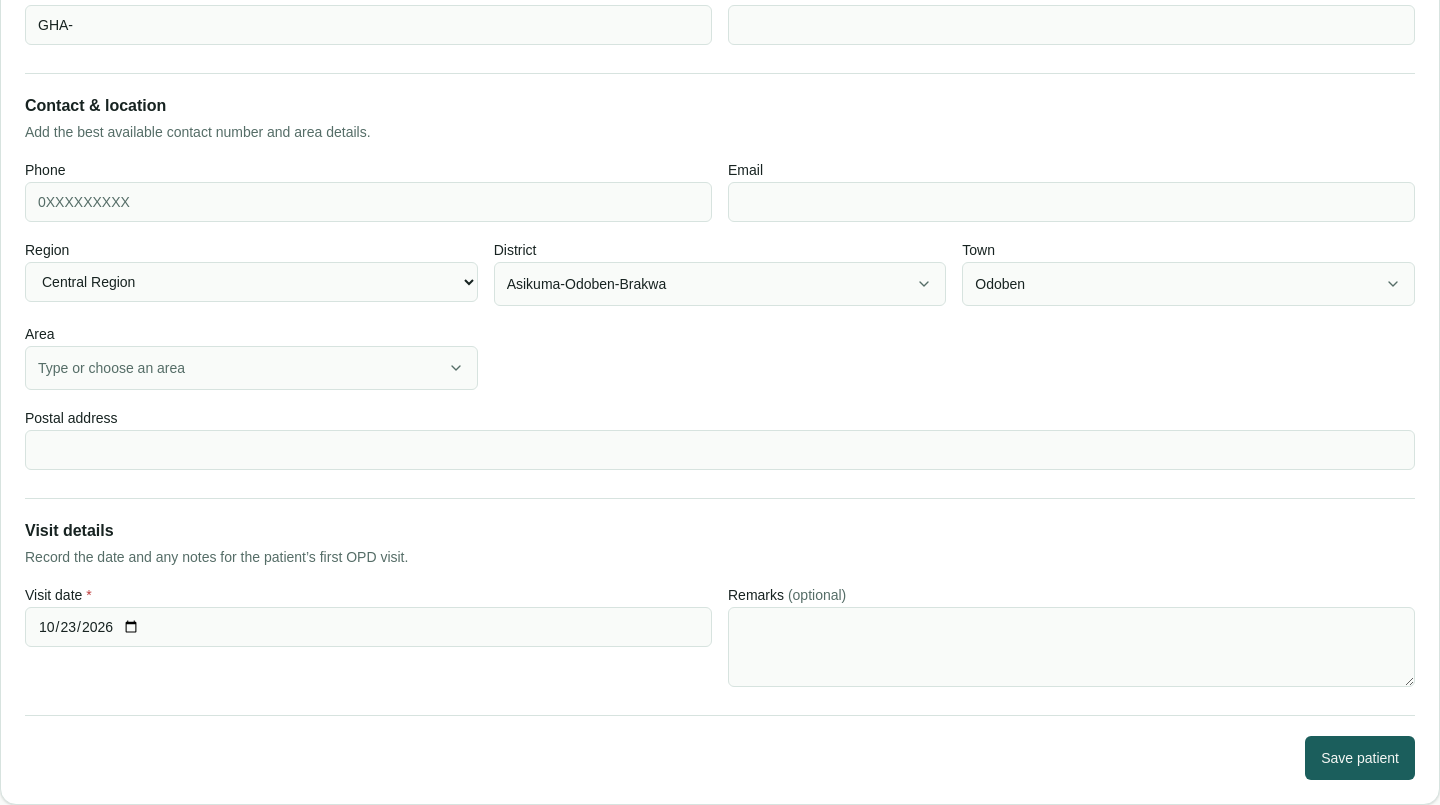
PatientForm defaults and guidance › scrolls to the first invalid field without focusing it
(page scrolled)
Step 1. Click the button "Save patient" → x=1360, y=758, box [1305,736,1415,780]
(page scrolled)
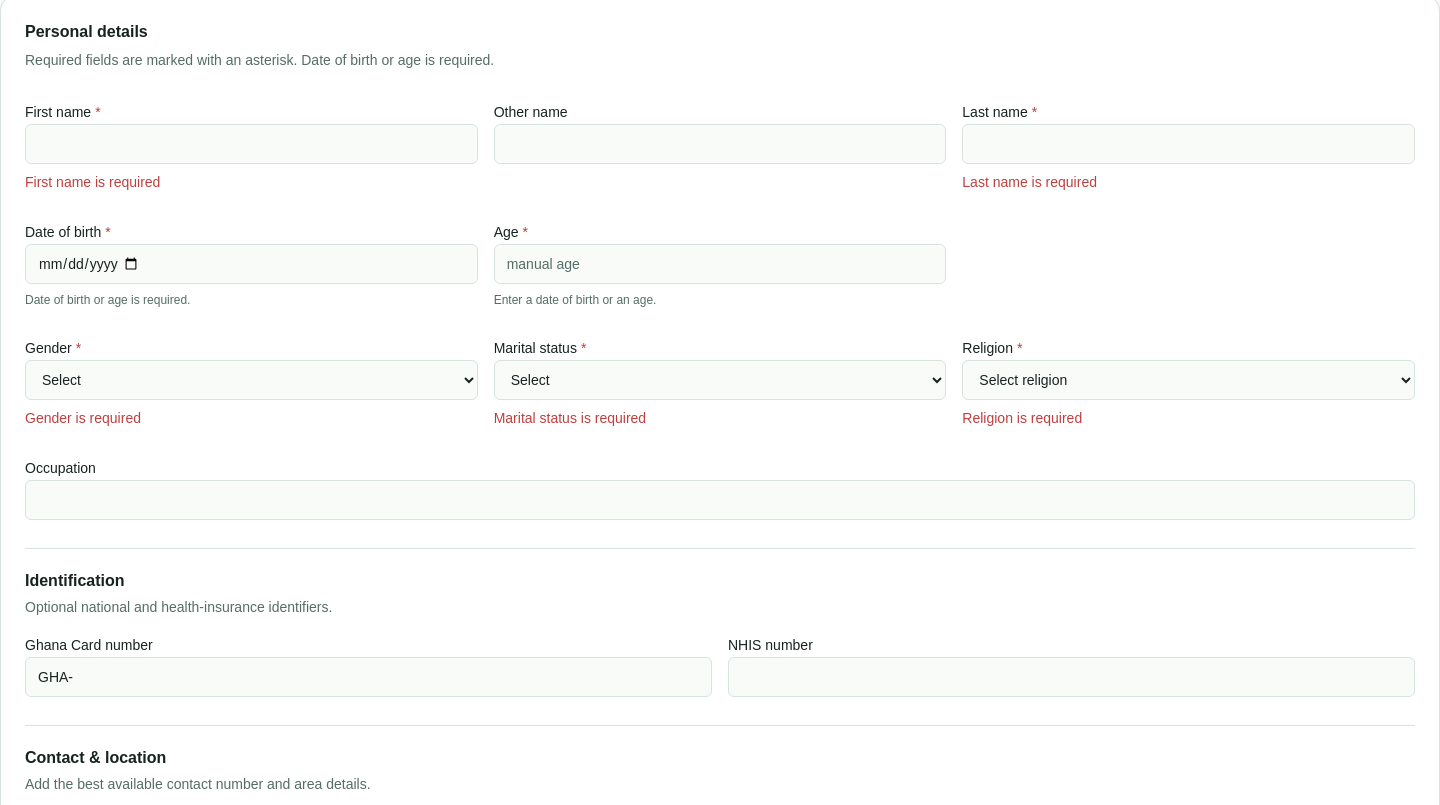
Expected: the text "First name is required" is shown, [25,174,160,190]
